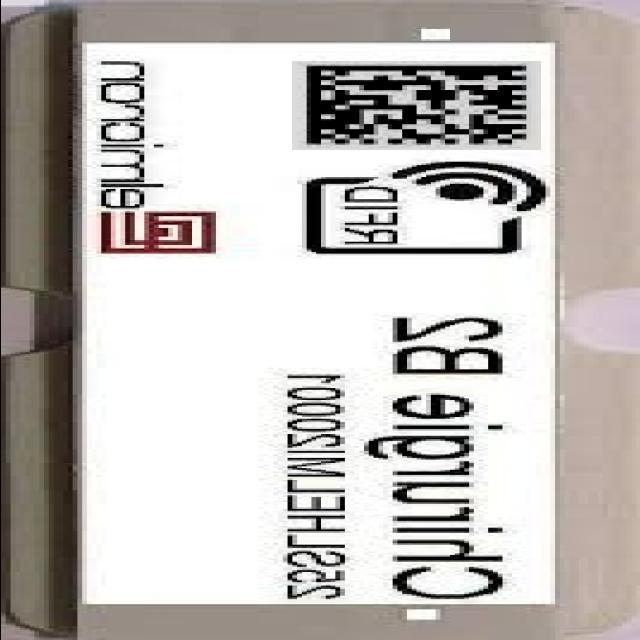Data-Matrix: (291, 61, 540, 150)
